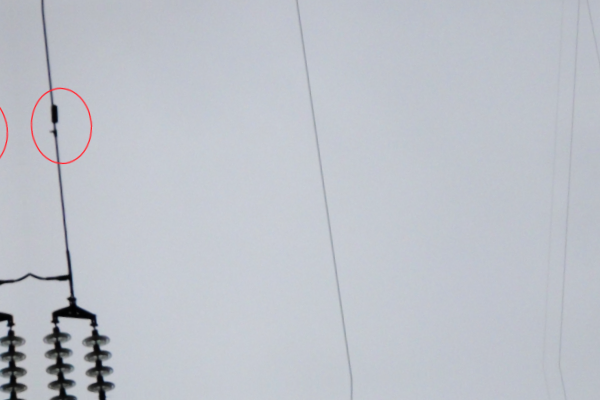damper_defect: (46, 103, 60, 143)
